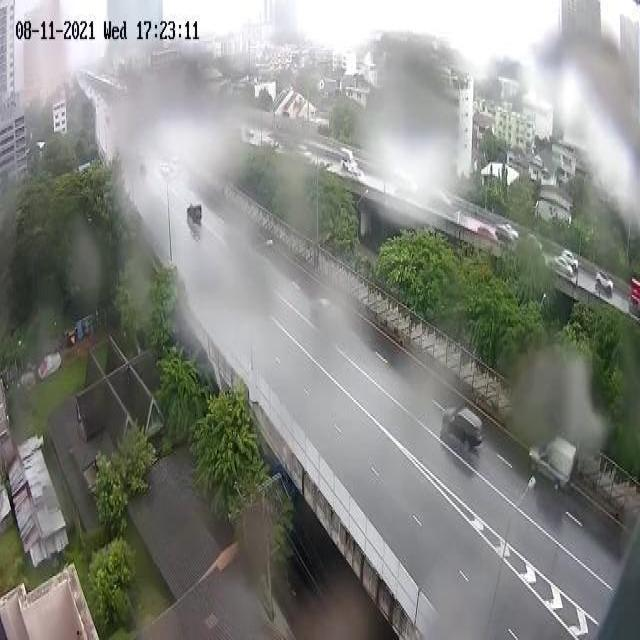Car: (439, 391, 482, 452), (185, 196, 203, 232)
Van: (529, 424, 575, 496)
